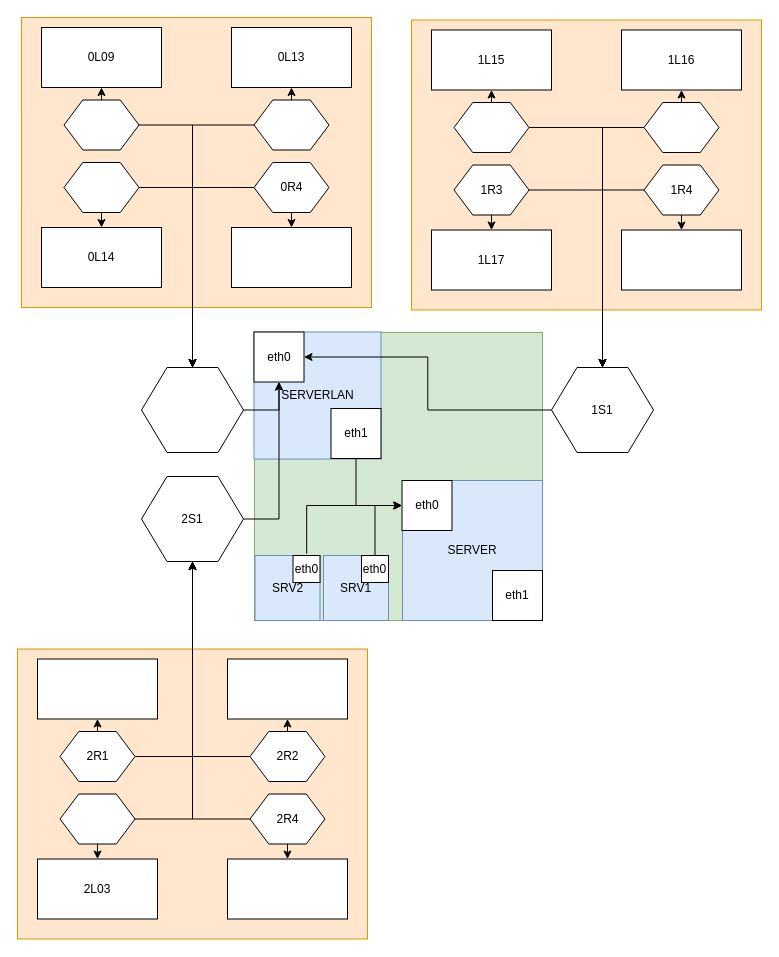
Image size: 779x957. Some labels were removed from this diagram. Here are the shapes that lost their labels. From the top down, the box of each, then its label:
(63, 99, 139, 150): 0R1
(253, 99, 329, 150): 0R2
(453, 102, 529, 152): 1R1
(643, 102, 719, 152): 1R2
(63, 162, 139, 212): 0R3
(230, 226, 352, 288): 0L17
(620, 229, 742, 290): 1L22
(140, 366, 244, 452): 0S1
(36, 658, 158, 719): 2L01
(226, 658, 348, 719): 2L02
(59, 793, 135, 844): 2R3
(226, 858, 348, 919): 2L04
